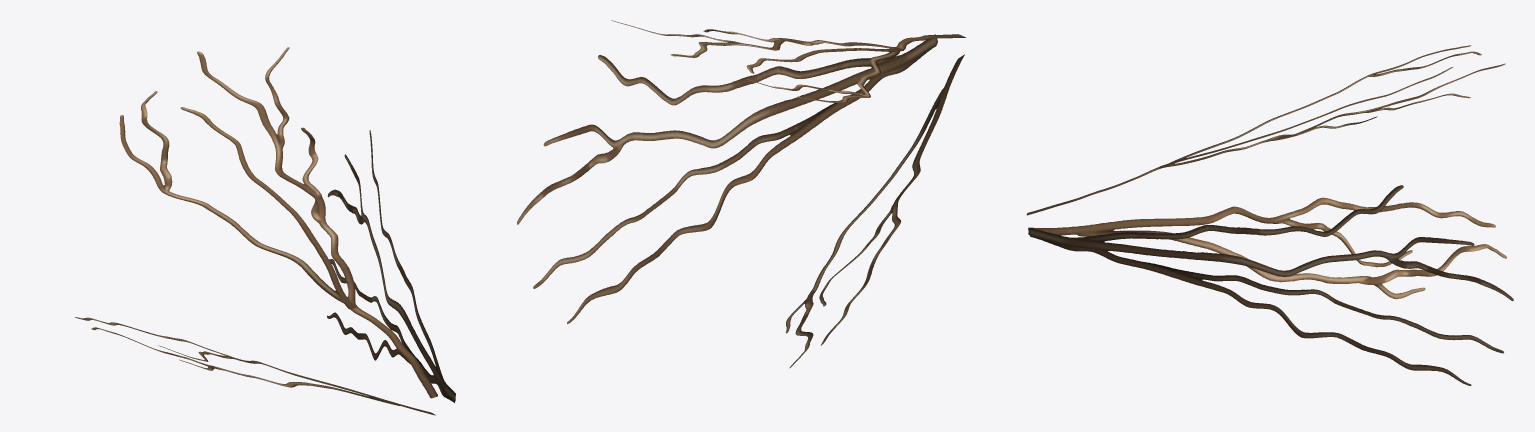
Rendered from Brush_02_a.fbx.
3 renders of one model, left to right at view 1: azimuth 30°, elevation 25°; view 2: azimuth 150°, elevation 25°; view 3: azimuth 270°, elevation 25°, orthographic. The views are drawn at different scales.
Visible parts, largest first — view 1: Brush_02_a; view 2: Brush_02_a; view 3: Brush_02_a.
Part boxes in pixels (x1=…): Brush_02_a: x1=75, y1=47, x2=455, y2=415; Brush_02_a: x1=517, y1=20, x2=965, y2=368; Brush_02_a: x1=1026, y1=45, x2=1513, y2=385.
Bounding box in the file's own units: 1.44 × 1.34 × 2.
